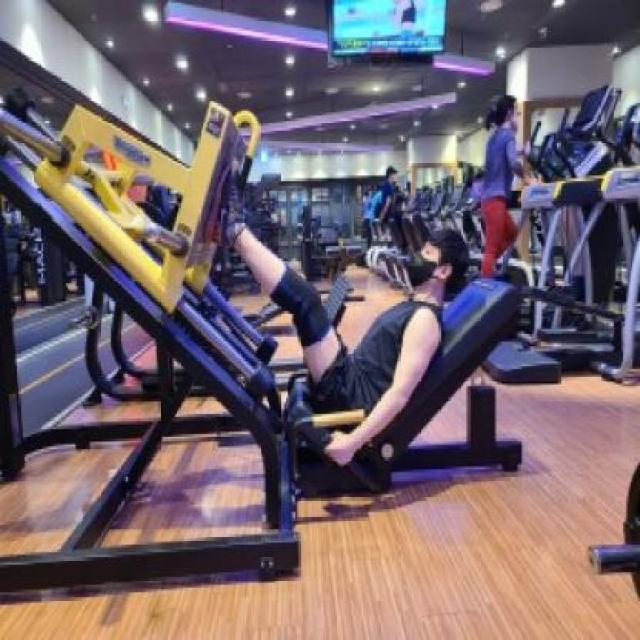leg press: (0, 49, 543, 594)
